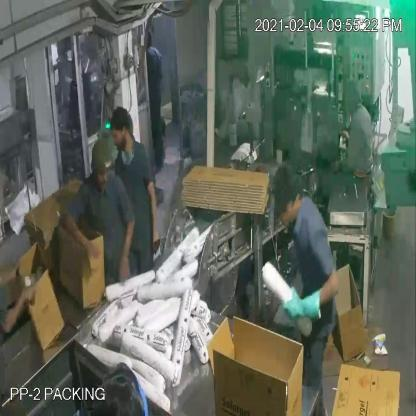glove: (266, 274, 328, 334)
no_glove: (56, 205, 108, 277), (3, 270, 38, 338), (145, 169, 166, 266), (112, 212, 137, 291), (0, 222, 24, 290)
